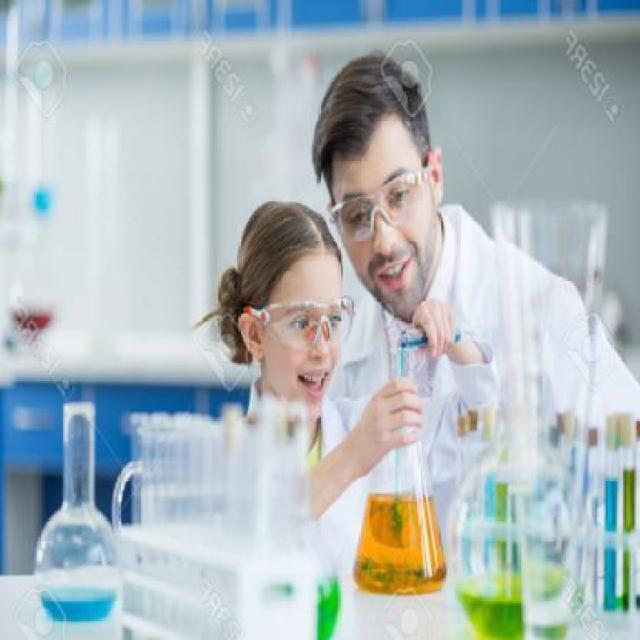face_nomask: (336, 177, 426, 286), (278, 299, 342, 393)
glasses: (331, 156, 435, 247), (246, 289, 356, 348)
hand_noglove: (365, 369, 423, 454), (406, 291, 463, 357)
head_nohelmet: (302, 49, 430, 162), (238, 197, 350, 286)
